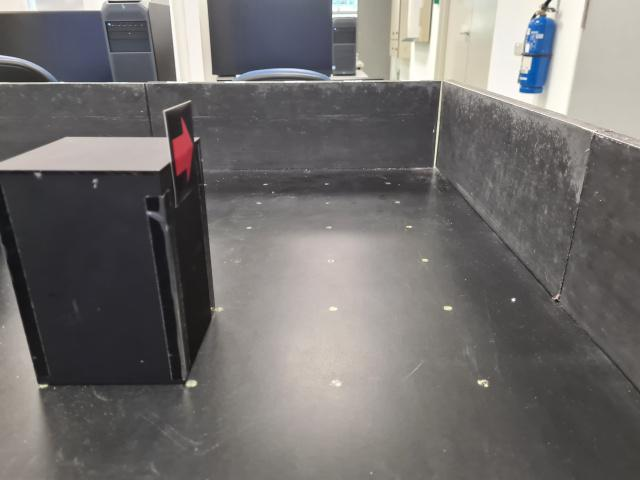left: (162, 99, 201, 209)
